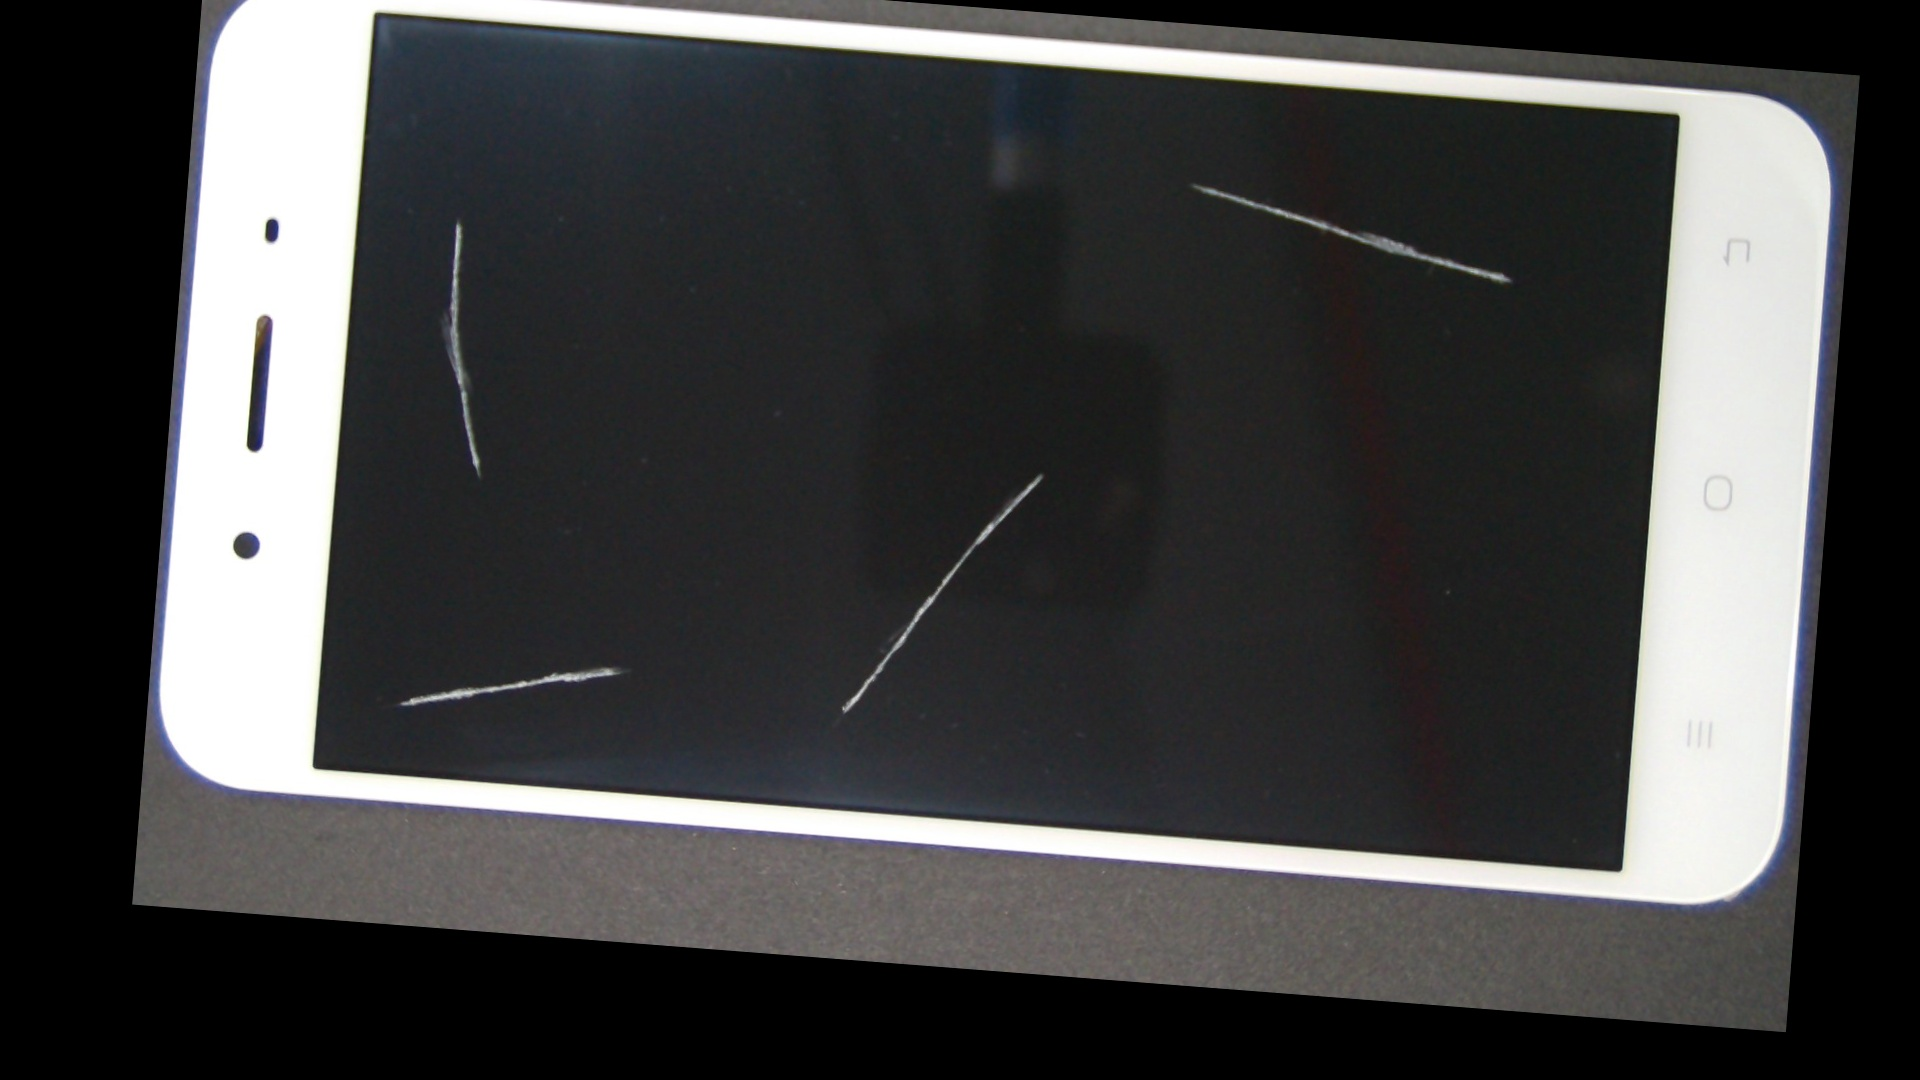oil: (589, 210, 1494, 736), (365, 307, 877, 959), (688, 65, 1700, 301), (313, 82, 603, 355)
